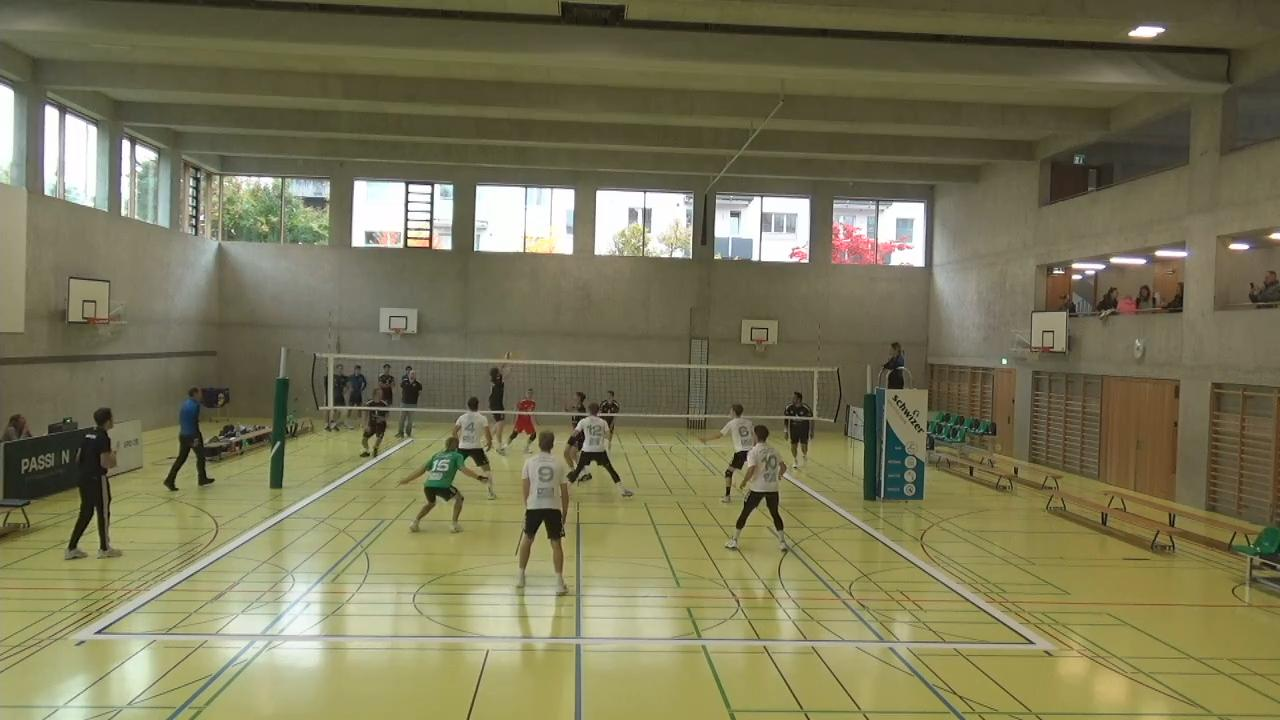alzata: (485, 344, 517, 457)
